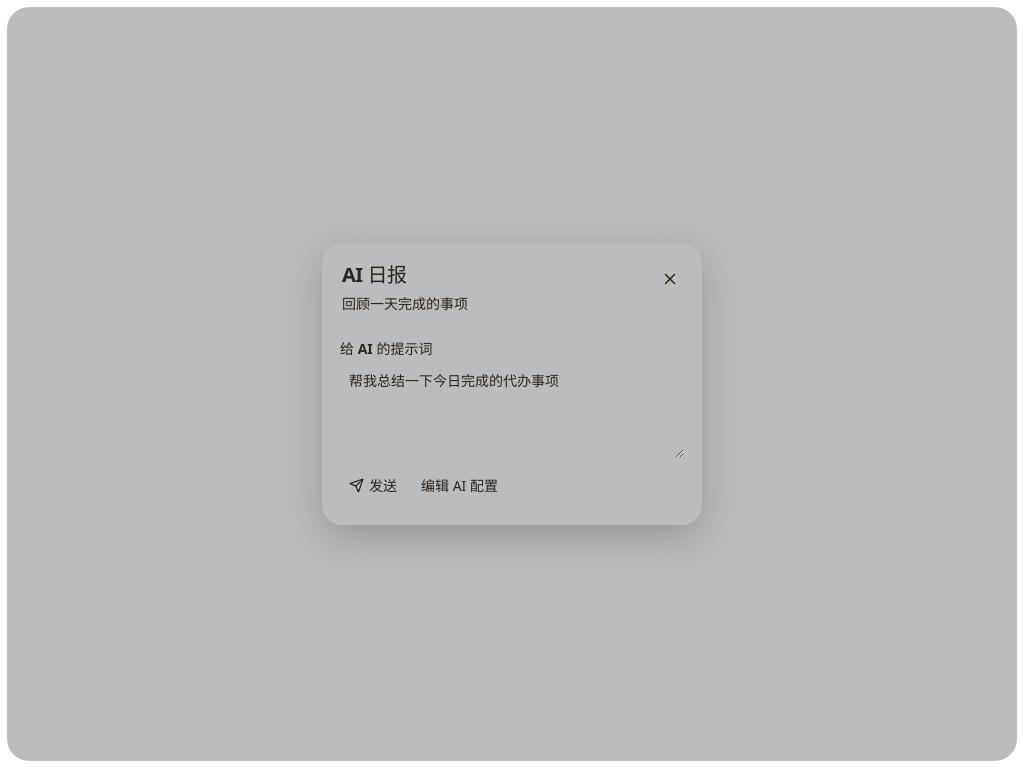
Test: DailySummaryDialog prompt › explains when no completed tasks are available instead of leaving send silently disabled
Click the button with class "summary-primary".
click(373, 486)  # box [340,469,406,503]
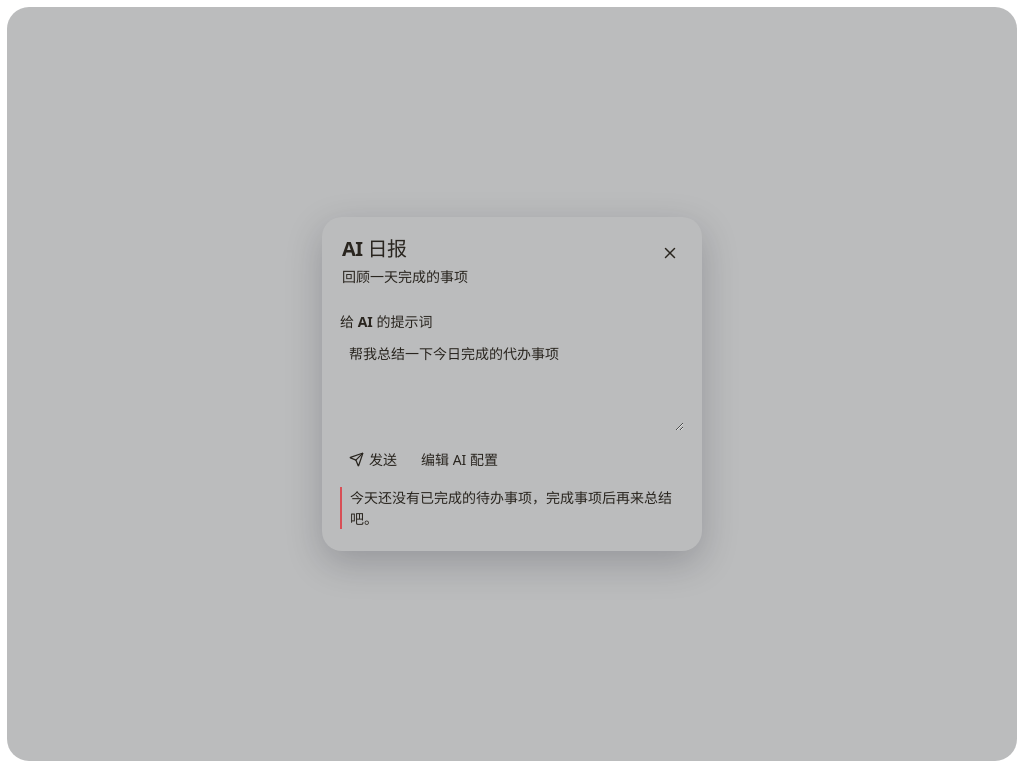
Result: the message "今天还没有已完成的待办事项，完成事项后再来总结吧。" is shown at [340,487,684,529]
